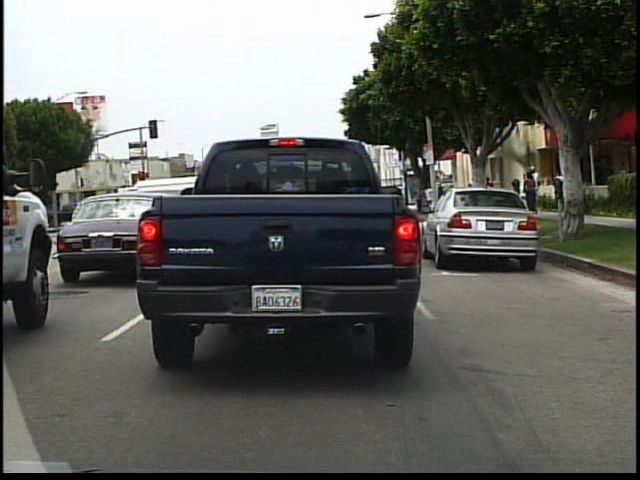person: (480, 172, 498, 214)
